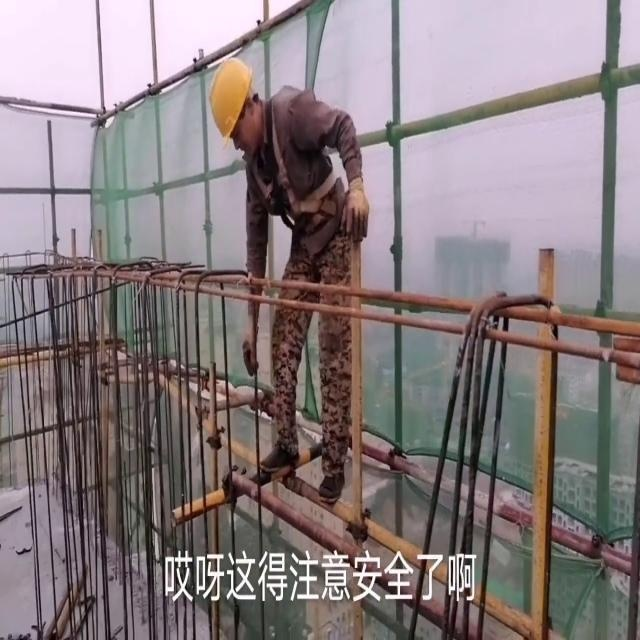Arnes_seguridad: (245, 87, 342, 220)
